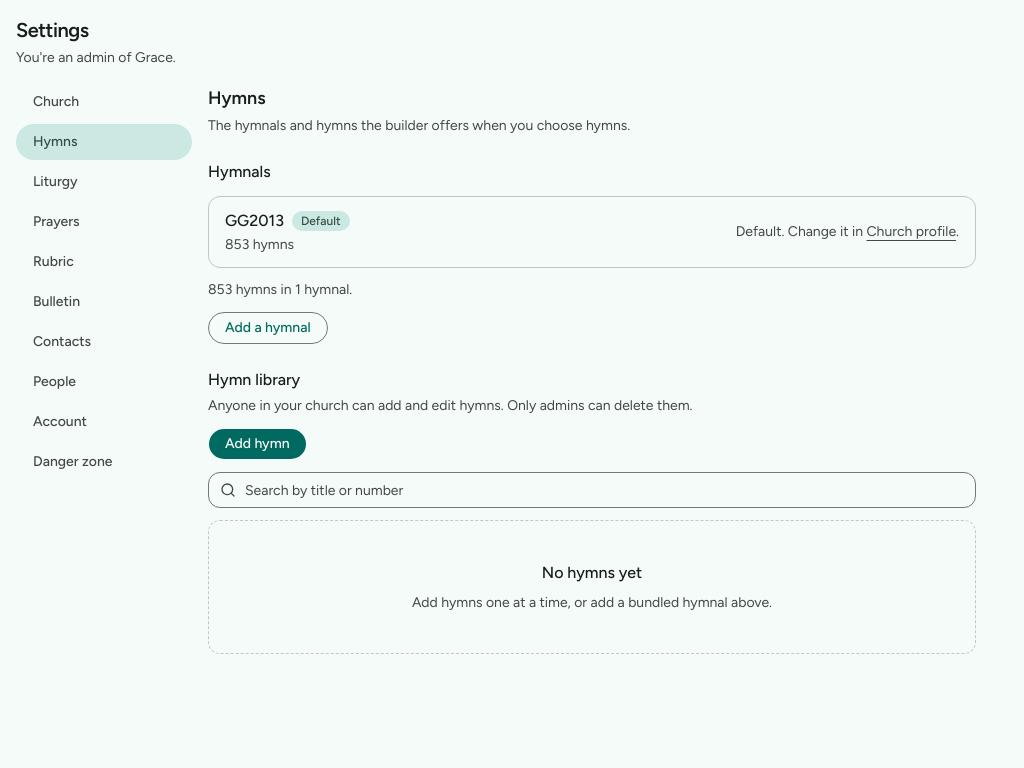
Test case: Settings → Hymns, the Hymnals card (slice 6a-2) › says a hymnal is already added when the add brings nothing new
Click the button "Add a hymnal". click: {"x": 268, "y": 328}
box: top-left (208, 312), bottom-right (328, 344)
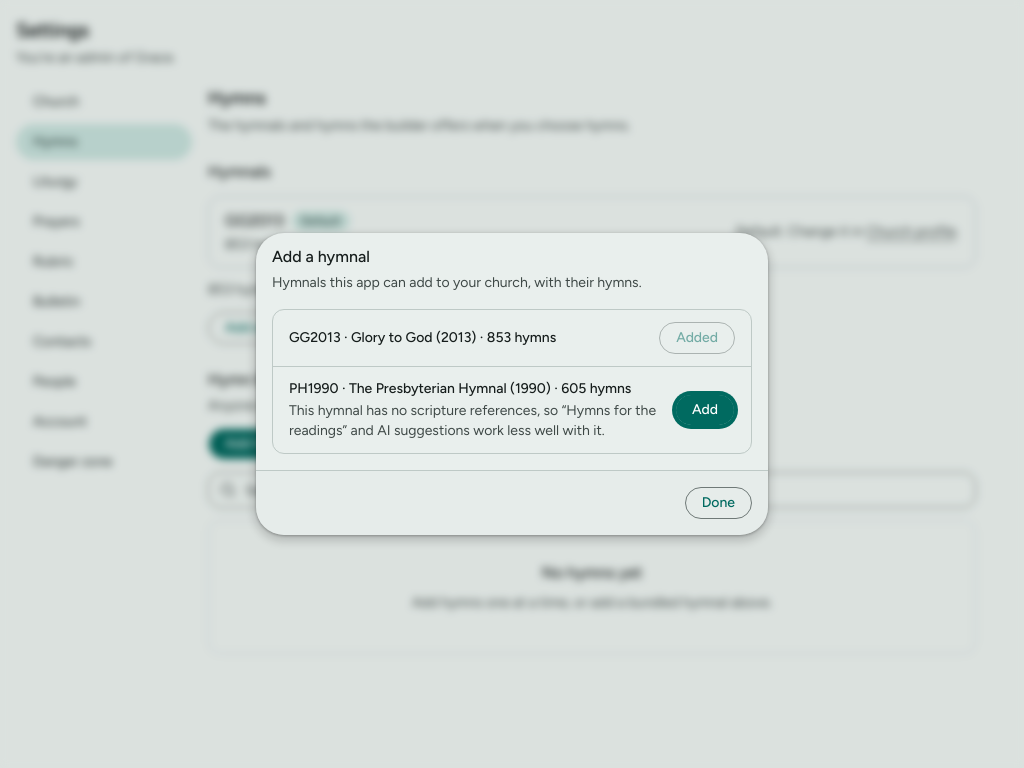
Click the button with aria-label "Add PH1990". click: {"x": 705, "y": 410}
box: top-left (675, 394), bottom-right (735, 426)
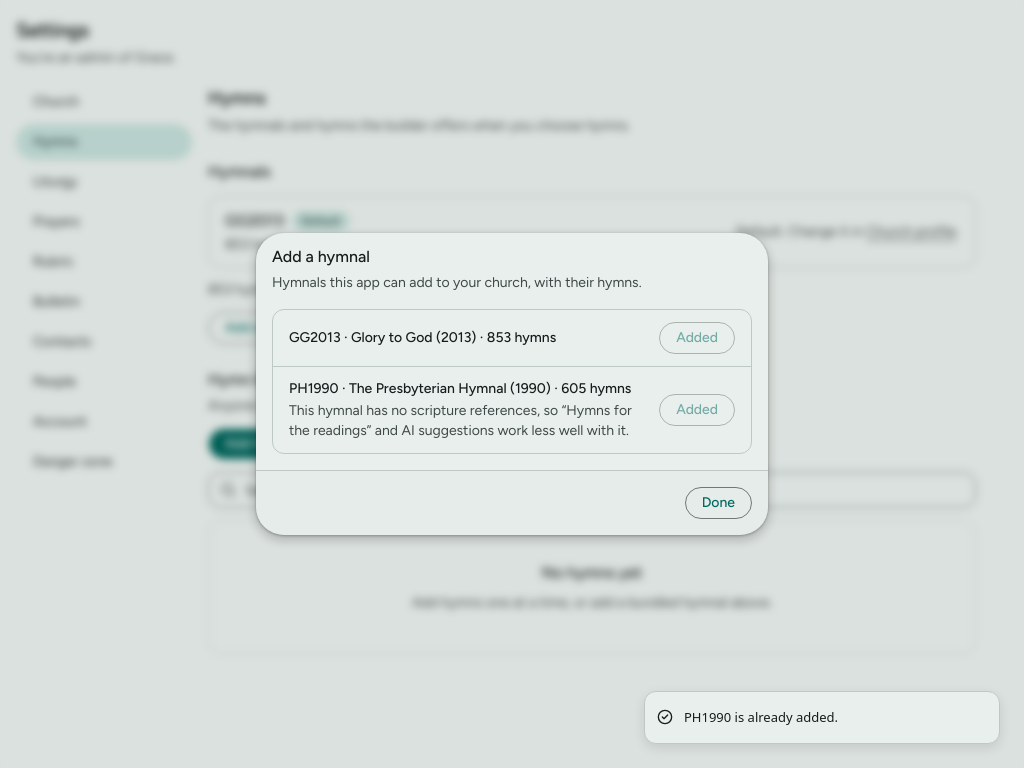
Expected: the number of buttons "Added" is 2, top-left (659, 322), bottom-right (735, 354); top-left (659, 394), bottom-right (735, 426)
Expected: the text "PH1990 is already added." is shown, top-left (684, 708), bottom-right (838, 727)
